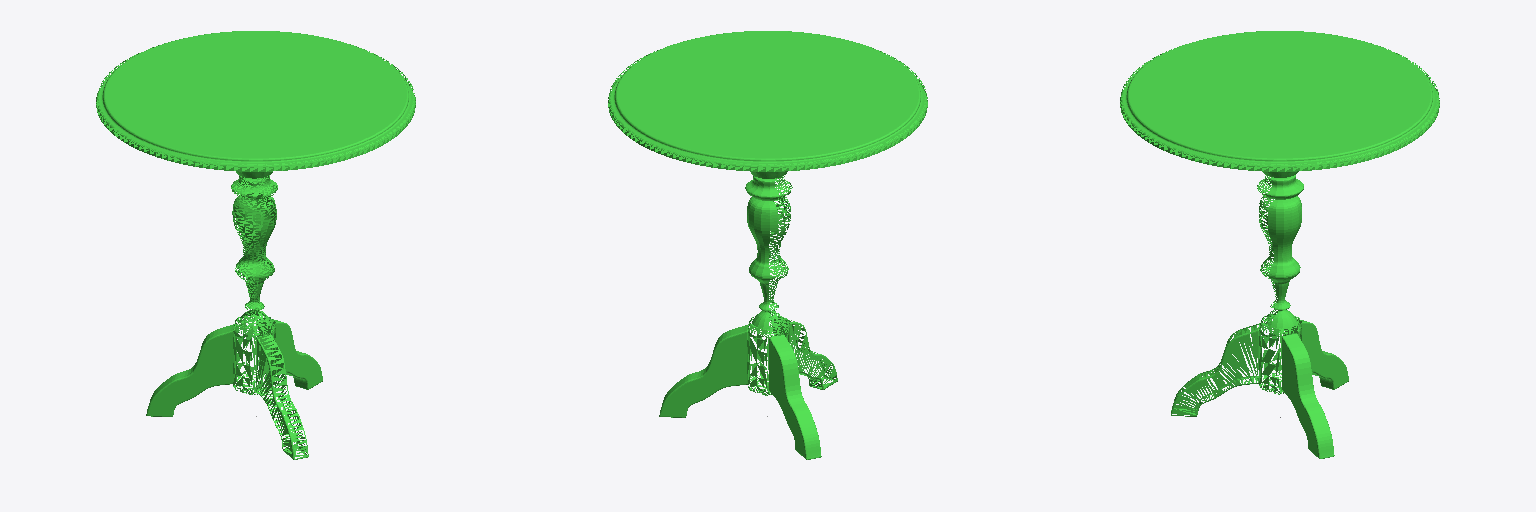
File: bartable2.obj
3 renders of one model, left to right at view 1: azimuth 30°, elevation 25°; view 2: azimuth 150°, elevation 25°; view 3: azimuth 270°, elevation 25°, orthographic.
Visible parts, largest first — view 1: Bar_table; view 2: Bar_table; view 3: Bar_table.
Boxes of the visible parts, <box> form: Bar_table: <box>96,31,415,459</box>; Bar_table: <box>608,31,927,459</box>; Bar_table: <box>1120,31,1439,458</box>.
Bounding box in the file's own units: 710 × 791 × 710.